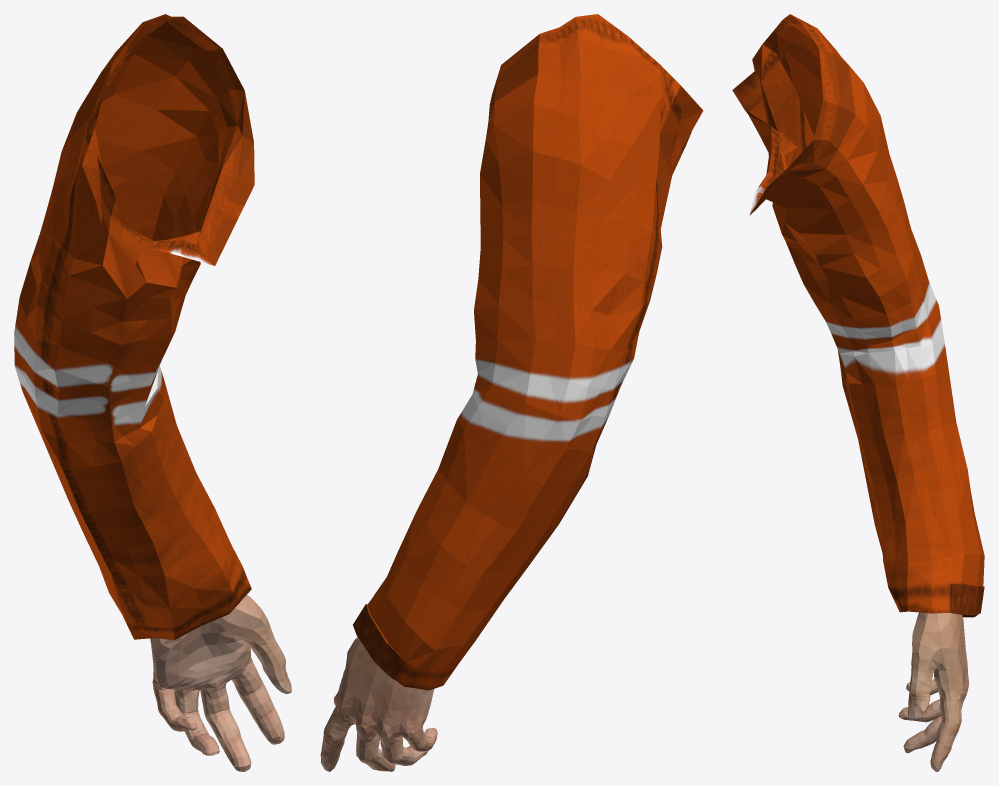
Rendered from jeff_left_arm.dae.
3 renders of one model, left to right at view 1: azimuth 30°, elevation 25°; view 2: azimuth 150°, elevation 25°; view 3: azimuth 270°, elevation 25°, orthographic. The views are drawn at different scales.
Parts seen in each view (by area): view 1: Object001; view 2: Object001; view 3: Object001.
Boxes of the visible parts, left/top/right/bottom form: Object001: left=14, top=14, right=291, bottom=771; Object001: left=320, top=14, right=703, bottom=771; Object001: left=732, top=14, right=984, bottom=771.
Size of the model in its own units: 379 by 326 by 963.
2 materials, 2 textured.
